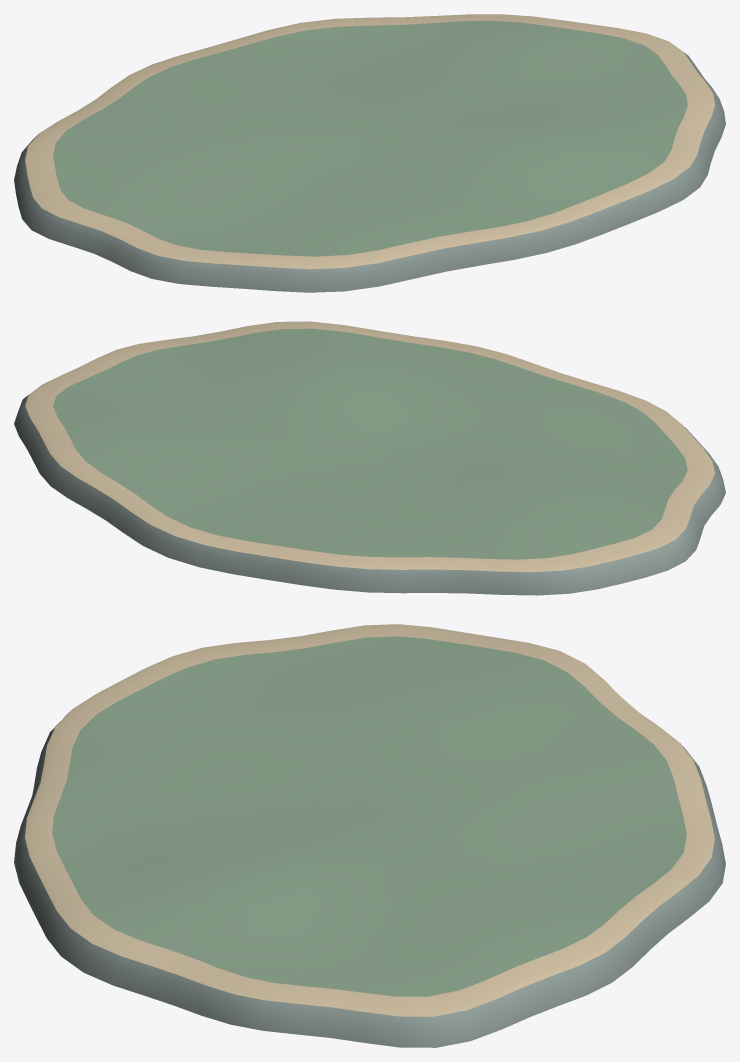
Rendered from world-base.glb.
The picture shows the model from 3 angles, top to bottom: view 1: azimuth 30°, elevation 25°; view 2: azimuth 150°, elevation 25°; view 3: azimuth 270°, elevation 25°; orthographic projection. The views are drawn at different scales.
Parts seen in each view (by area): view 1: WalkableGround, Shore, Cliff; view 2: WalkableGround, Shore, Cliff; view 3: WalkableGround, Shore, Cliff.
Boxes of the visible parts, box(x1,y1,x2,y2) form: WalkableGround: box(53, 20, 687, 256); Shore: box(25, 14, 714, 269); Cliff: box(14, 52, 725, 292); WalkableGround: box(53, 328, 687, 559); Shore: box(25, 321, 714, 572); Cliff: box(14, 395, 725, 595); WalkableGround: box(52, 636, 686, 996); Shore: box(25, 624, 714, 1016); Cliff: box(14, 712, 725, 1047).
Bounding box in the file's own units: 98.8 × 4.46 × 73.26.
